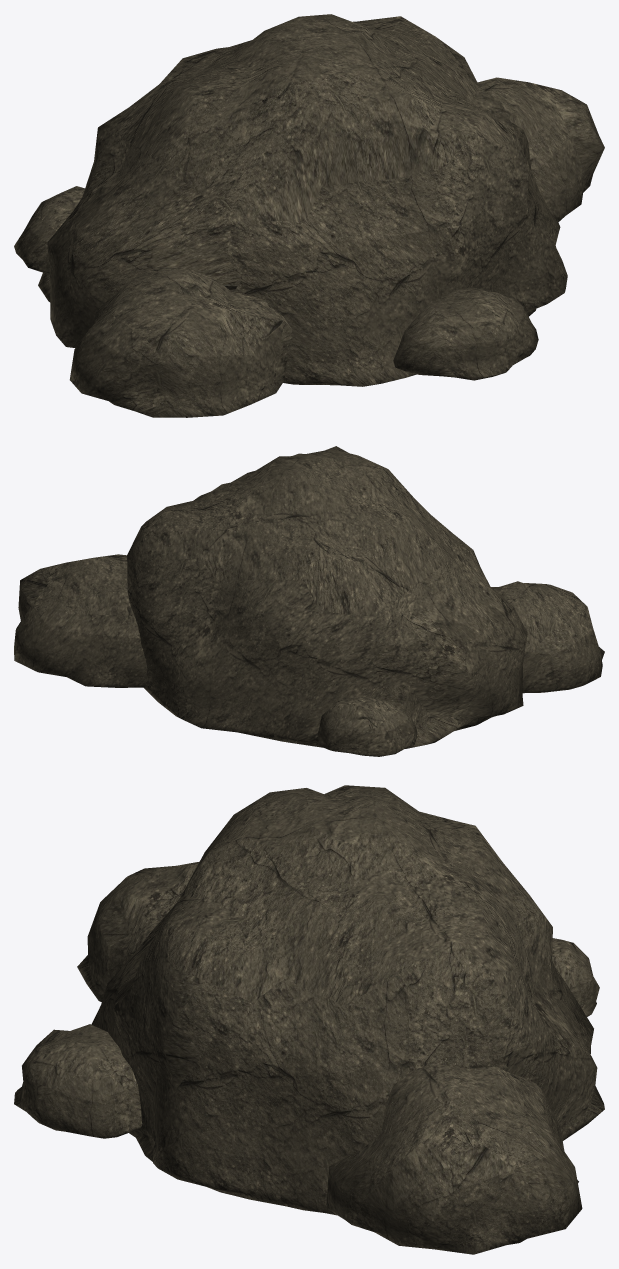
File: rock_large_01_real.glb
3 renders of one model, top to bottom at view 1: azimuth 30°, elevation 25°; view 2: azimuth 150°, elevation 25°; view 3: azimuth 270°, elevation 25°, orthographic. The views are drawn at different scales.
Parts seen in each view (by area): view 1: rock_large_01; view 2: rock_large_01; view 3: rock_large_01.
Boxes of the visible parts, x1,y1,x2,y2 form: rock_large_01: (14, 14, 604, 417); rock_large_01: (14, 446, 604, 756); rock_large_01: (14, 785, 604, 1254).
Size of the model in its own units: 4.1 by 1.78 by 3.01.
Materials: 3 (3 with a texture image).
